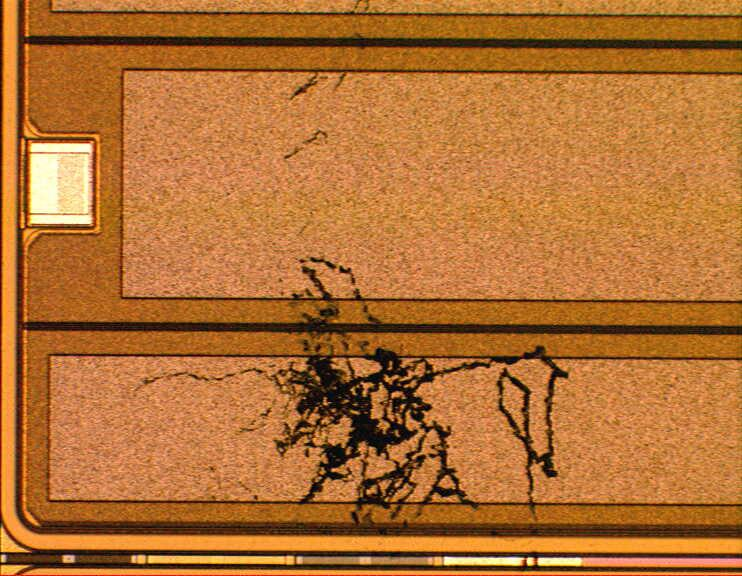SCRATCH: (124, 1, 573, 572)
